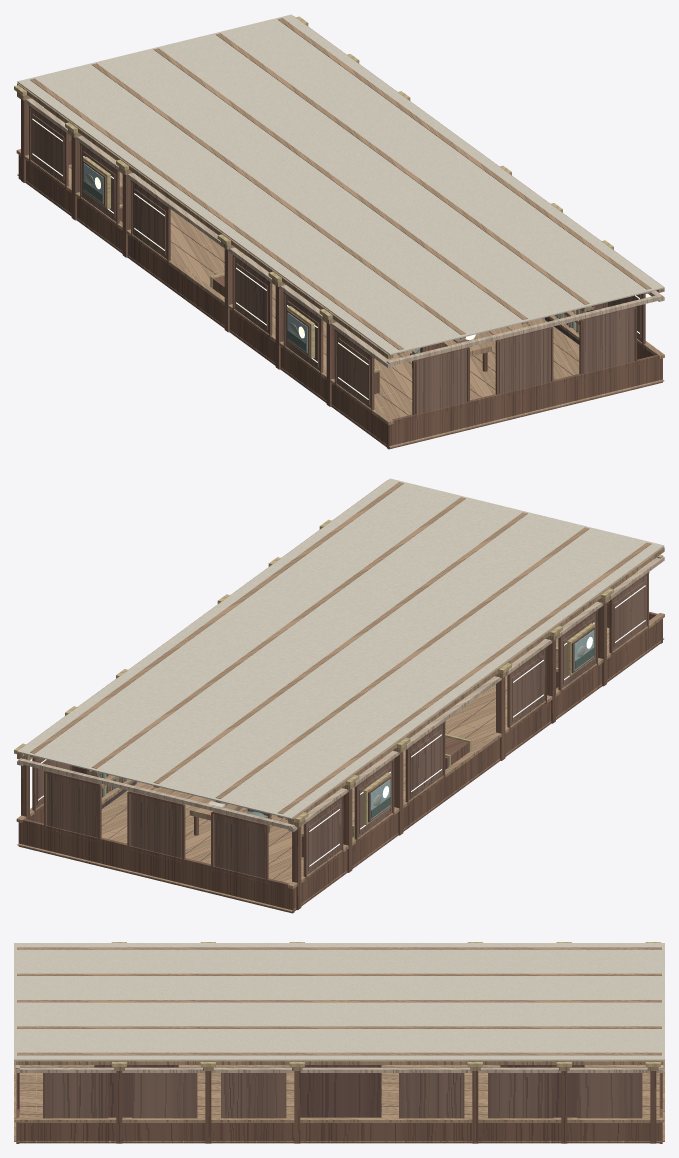
The model's file is office.gltf.
3 views of the same model, one above another, from view 1: azimuth 30°, elevation 25°; view 2: azimuth 150°, elevation 25°; view 3: azimuth 270°, elevation 25° (orthographic). The views are drawn at different scales.
Parts seen in each view (by area): view 1: plaster, oakdark, oak, walnut, woodlight, gold, sky; view 2: plaster, oakdark, oak, walnut, woodlight, gold, sky; view 3: plaster, oak, walnut, oakdark, mahogany, woodlight, gold.
Boxes of the visible parts, x1=… form: plaster: x1=17, y1=14, x2=664, y2=355; oakdark: x1=18, y1=99, x2=662, y2=449; oak: x1=16, y1=16, x2=664, y2=447; walnut: x1=30, y1=108, x2=642, y2=415; woodlight: x1=17, y1=96, x2=664, y2=440; gold: x1=14, y1=16, x2=613, y2=391; sky: x1=83, y1=163, x2=307, y2=353; plaster: x1=17, y1=478, x2=664, y2=819; oakdark: x1=18, y1=572, x2=662, y2=913; oak: x1=16, y1=480, x2=664, y2=911; walnut: x1=35, y1=574, x2=647, y2=879; woodlight: x1=17, y1=555, x2=664, y2=875; gold: x1=14, y1=519, x2=613, y2=836; sky: x1=370, y1=630, x2=594, y2=819; plaster: x1=14, y1=943, x2=664, y2=1060; oak: x1=14, y1=947, x2=664, y2=1141; walnut: x1=19, y1=1067, x2=659, y2=1118; oakdark: x1=16, y1=1071, x2=662, y2=1143; mahogany: x1=94, y1=1065, x2=584, y2=1117; woodlight: x1=14, y1=1065, x2=663, y2=1142; gold: x1=111, y1=942, x2=660, y2=1066.
Size of the model in its own units: 9.28 by 2.99 by 20.85.
21 materials, 21 textured.
